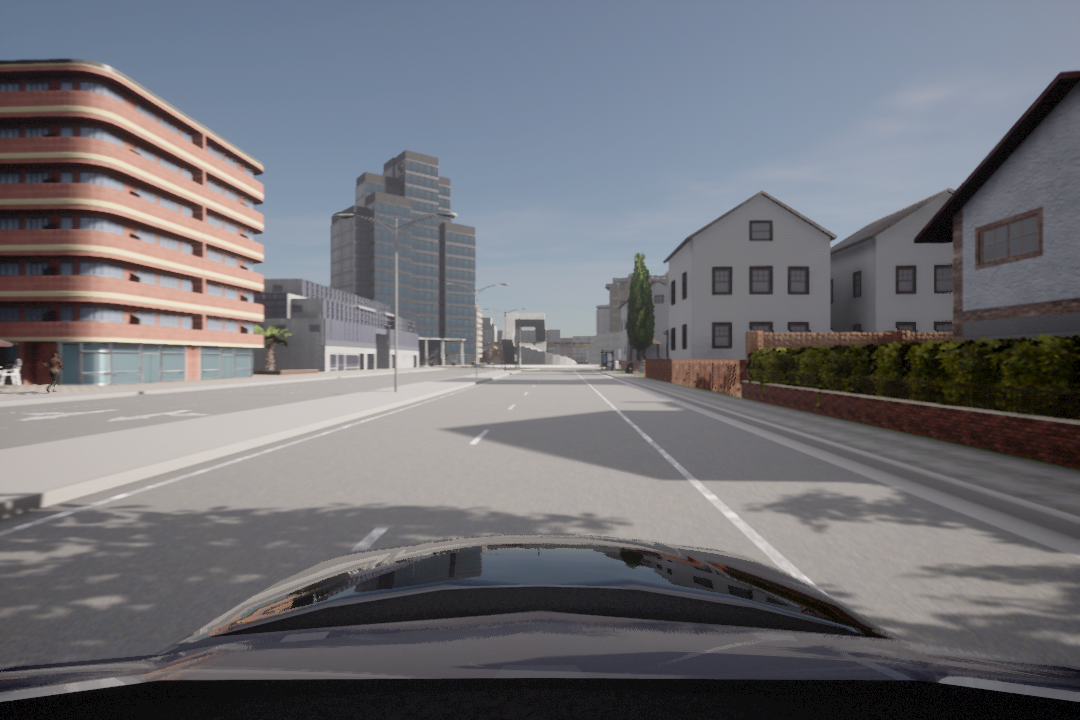RoadSign_forward_left: (114, 404, 218, 424)
RoadSign_forward_right: (4, 407, 111, 421)
